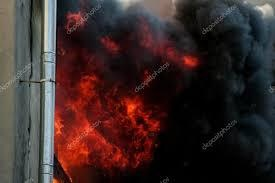fire: (55, 71, 159, 173)
